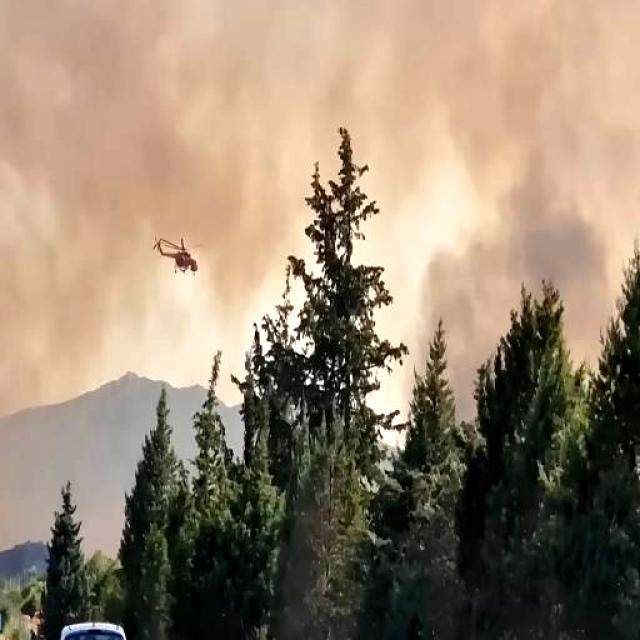drone: (154, 234, 205, 278)
